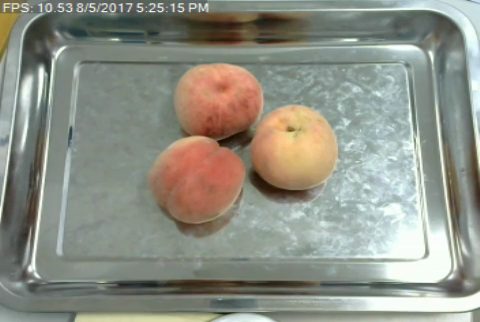Peach: (149, 136, 244, 224), (172, 61, 262, 138), (253, 105, 335, 189)
